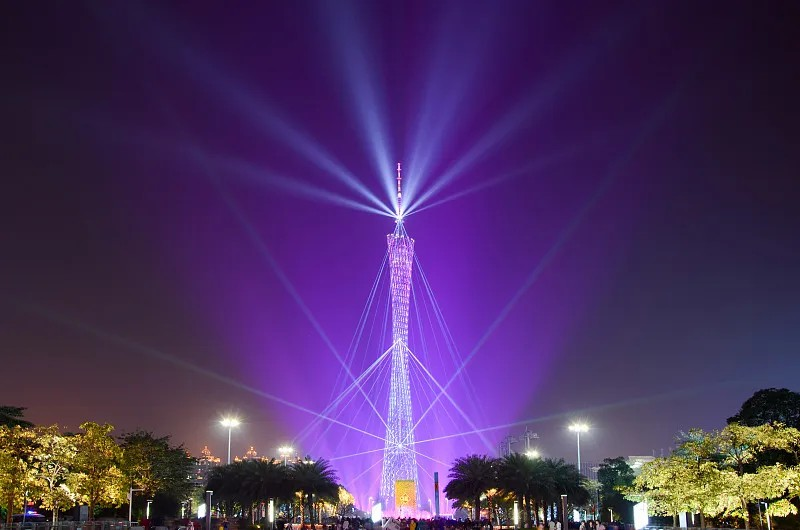Canton: (376, 162, 421, 513)
